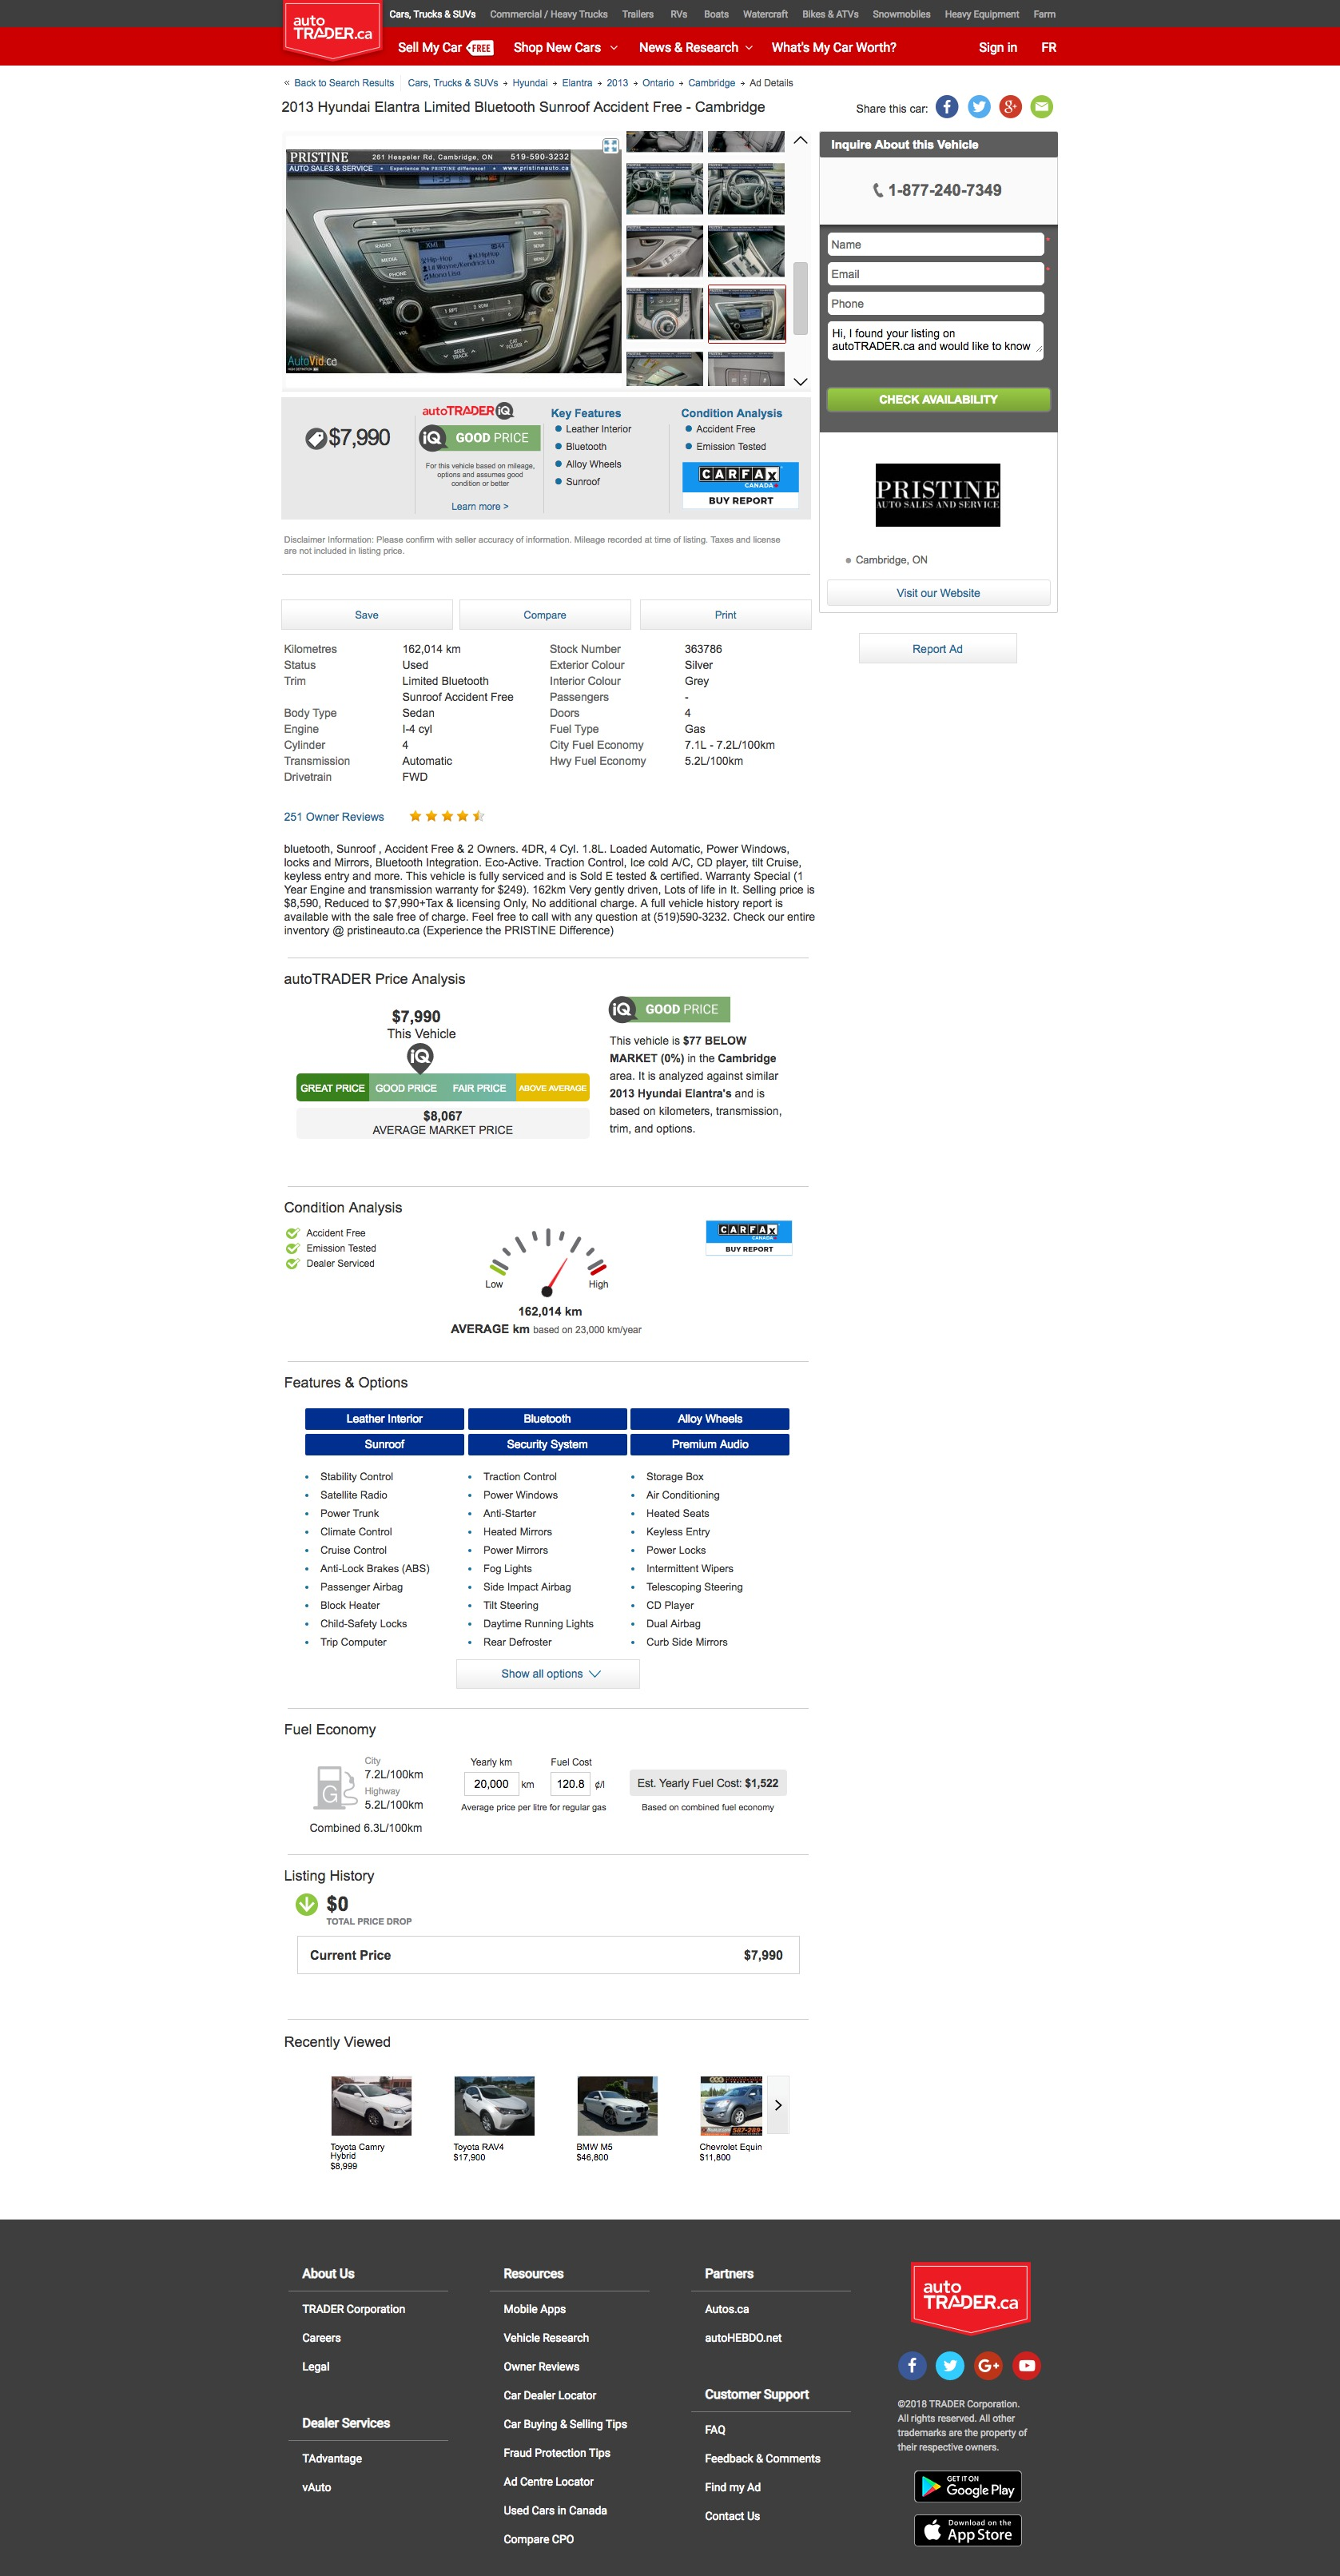car: (793, 378, 809, 387)
